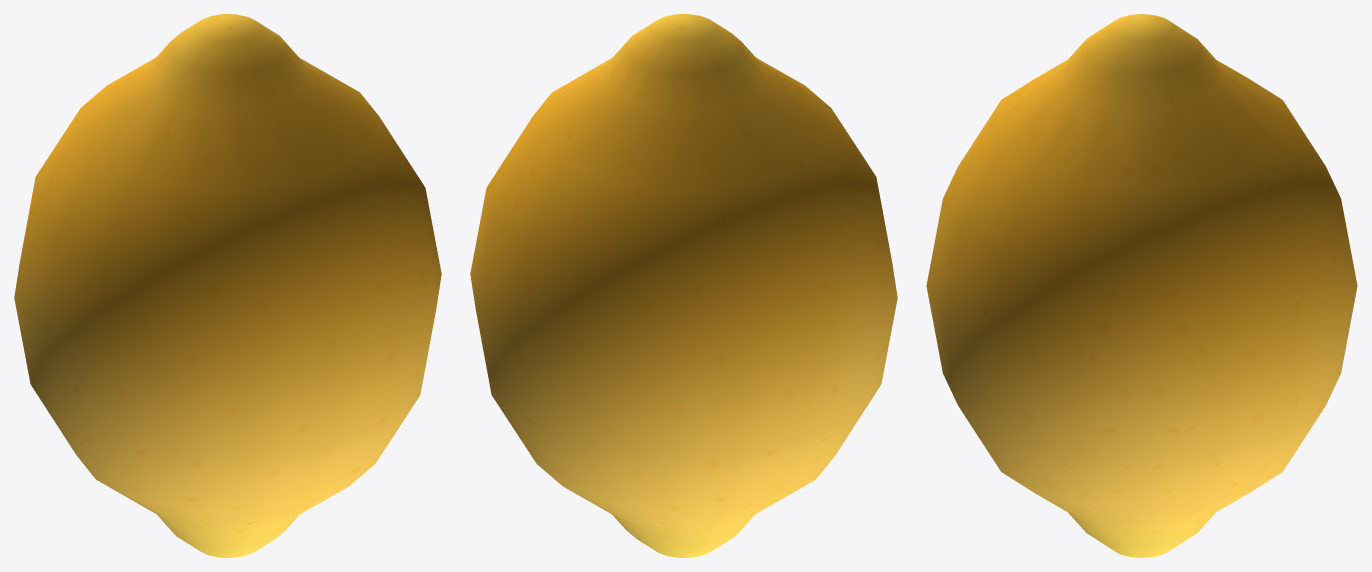
The model's file is Lemon.FBX.
3 renders of one model, left to right at view 1: azimuth 30°, elevation 25°; view 2: azimuth 150°, elevation 25°; view 3: azimuth 270°, elevation 25°, orthographic.
Parts seen in each view (by area): view 1: Lemon; view 2: Lemon; view 3: Lemon.
Boxes of the visible parts, bbox=[...] form: Lemon: bbox=[14, 14, 441, 557]; Lemon: bbox=[470, 14, 897, 557]; Lemon: bbox=[926, 14, 1357, 557].
Bounding box in the file's own units: 125 × 170 × 125.
